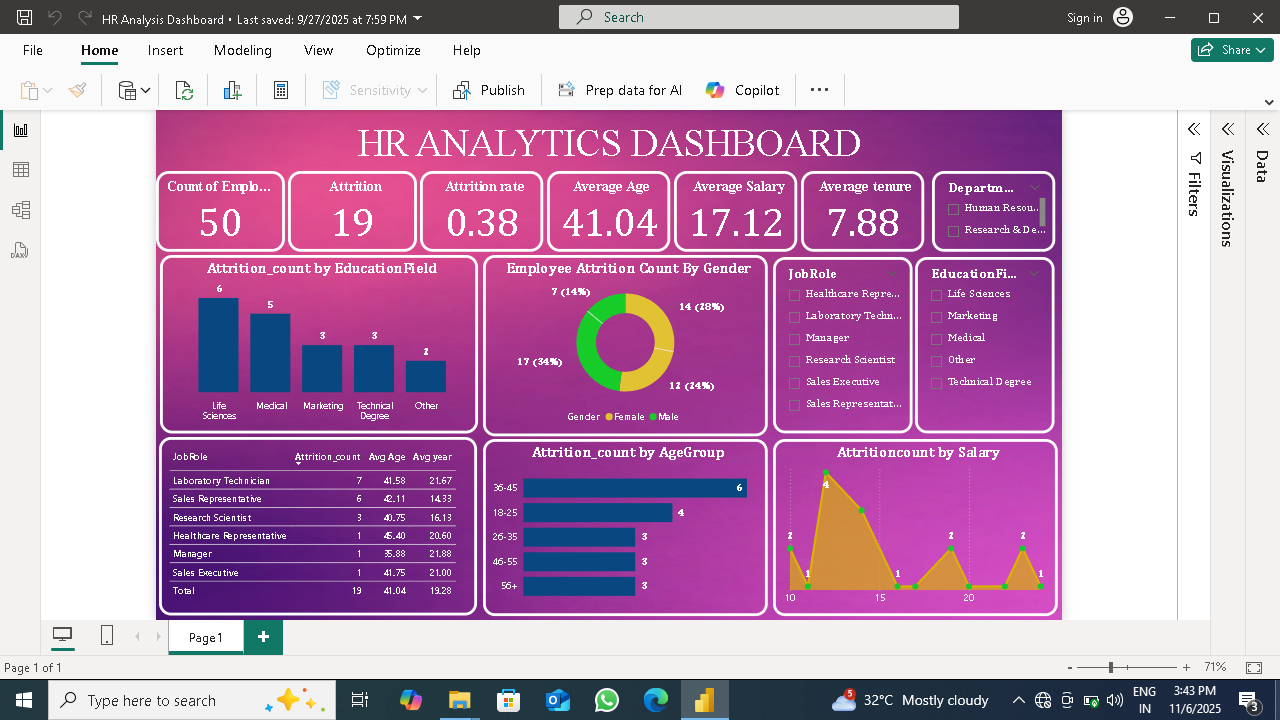

Layout of this report page (visuals, bound fields, positions):
{"tool":"powerbi","page":{"name":"Page 1","canvas":[1280,720],"ordinal":0},"visuals":[{"type":"textbox","box":[0,10.6,1280,88],"z":0},{"type":"card","title":"Count of Employees","fields":{"Values":["HR_Analysis.Total_empid"]},"box":[0,86.4,182,113.7],"z":1000},{"type":"card","title":"Average tenure","fields":{"Values":["HR_Analysis.Avg tenure"]},"box":[910,86.4,174.4,113.7],"z":2000},{"type":"card","title":"Average Age","fields":{"Values":["HR_Analysis.Avg Age"]},"box":[552,86.4,174.4,113.7],"z":3000},{"type":"card","title":"Attrition","fields":{"Values":["HR_Analysis.Attrition_count"]},"box":[186.5,86.4,182,113.7],"z":4000},{"type":"card","title":"Attrition rate","fields":{"Values":["HR_Analysis.Attrition rate"]},"box":[373.1,86.4,174.4,113.7],"z":5000},{"type":"card","title":"Average Salary","fields":{"Values":["HR_Analysis.Avg salary"]},"box":[731,86.4,174.4,113.7],"z":6000},{"type":"clusteredColumnChart","fields":{"Y":["HR_Analysis.Attrition_count"],"Category":["HR_Analysis.EducationField"]},"box":[6.1,204.7,448.9,251.8],"z":7000},{"type":"donutChart","title":"Employee Attrition Count By Gender","fields":{"Category":["HR_Analysis.Gender"],"Y":["HR_Analysis.Total_empid"],"Series":["HR_Analysis.Attrition"]},"box":[461,204.7,401.9,256.3],"z":8000},{"type":"clusteredBarChart","fields":{"Category":["HR_Analysis.AgeGroup"],"Y":["HR_Analysis.Attrition_count"]},"box":[461,464.1,401.9,250.2],"z":9000},{"type":"tableEx","title":"Employee Attrition Count By Gender","fields":{"Values":["HR_Analysis.JobRole","HR_Analysis.Attrition_count","HR_Analysis.Avg Age","HR_Analysis.Avg year"]},"box":[4.5,461,448.9,251.8],"z":10000},{"type":"areaChart","title":"Attritioncount by Salary","fields":{"Y":["HR_Analysis.Attrition_count"],"Category":["HR_Analysis.PercentSalaryHike"]},"box":[870.5,464.1,401.9,250.2],"z":11000},{"type":"slicer","fields":{"Values":["HR_Analysis.JobRole"]},"box":[870.5,207.8,197.2,248.7],"z":12000},{"type":"slicer","fields":{"Values":["HR_Analysis.EducationField"]},"box":[1072.2,207.8,197.2,248.7],"z":12001},{"type":"slicer","title":"Average tenure","fields":{"Values":["HR_Analysis.Department"]},"box":[1095,86.4,174.4,113.7],"z":12002}]}

Visuals, with their boxes on the page's 1280x720 design canvas (x1, y1, x2, y2). These are canvas units, not pixel positions in the 1280x720 screenshot, which may show the page scaled, cropped or inside an application window:
textbox: Rect(0, 11, 1280, 99)
"Count of Employees" card: Rect(0, 86, 182, 200)
"Average tenure" card: Rect(910, 86, 1084, 200)
"Average Age" card: Rect(552, 86, 726, 200)
"Attrition" card: Rect(186, 86, 368, 200)
"Attrition rate" card: Rect(373, 86, 548, 200)
"Average Salary" card: Rect(731, 86, 905, 200)
clusteredColumnChart - HR_Analysis.Attrition_count x HR_Analysis.EducationField: Rect(6, 205, 455, 456)
"Employee Attrition Count By Gender" donutChart: Rect(461, 205, 863, 461)
clusteredBarChart - HR_Analysis.AgeGroup x HR_Analysis.Attrition_count: Rect(461, 464, 863, 714)
"Employee Attrition Count By Gender" tableEx: Rect(4, 461, 453, 713)
"Attritioncount by Salary" areaChart: Rect(870, 464, 1272, 714)
slicer - HR_Analysis.JobRole: Rect(870, 208, 1068, 456)
slicer - HR_Analysis.EducationField: Rect(1072, 208, 1269, 456)
"Average tenure" slicer: Rect(1095, 86, 1269, 200)
